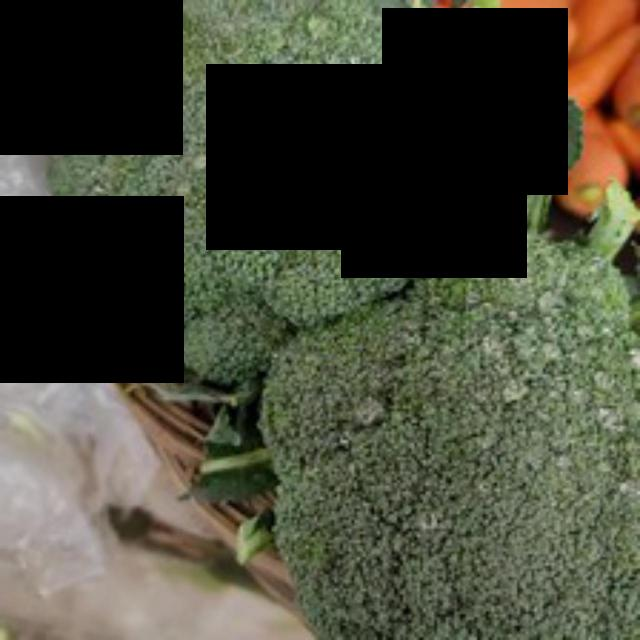broccoli: (260, 223, 637, 637)
